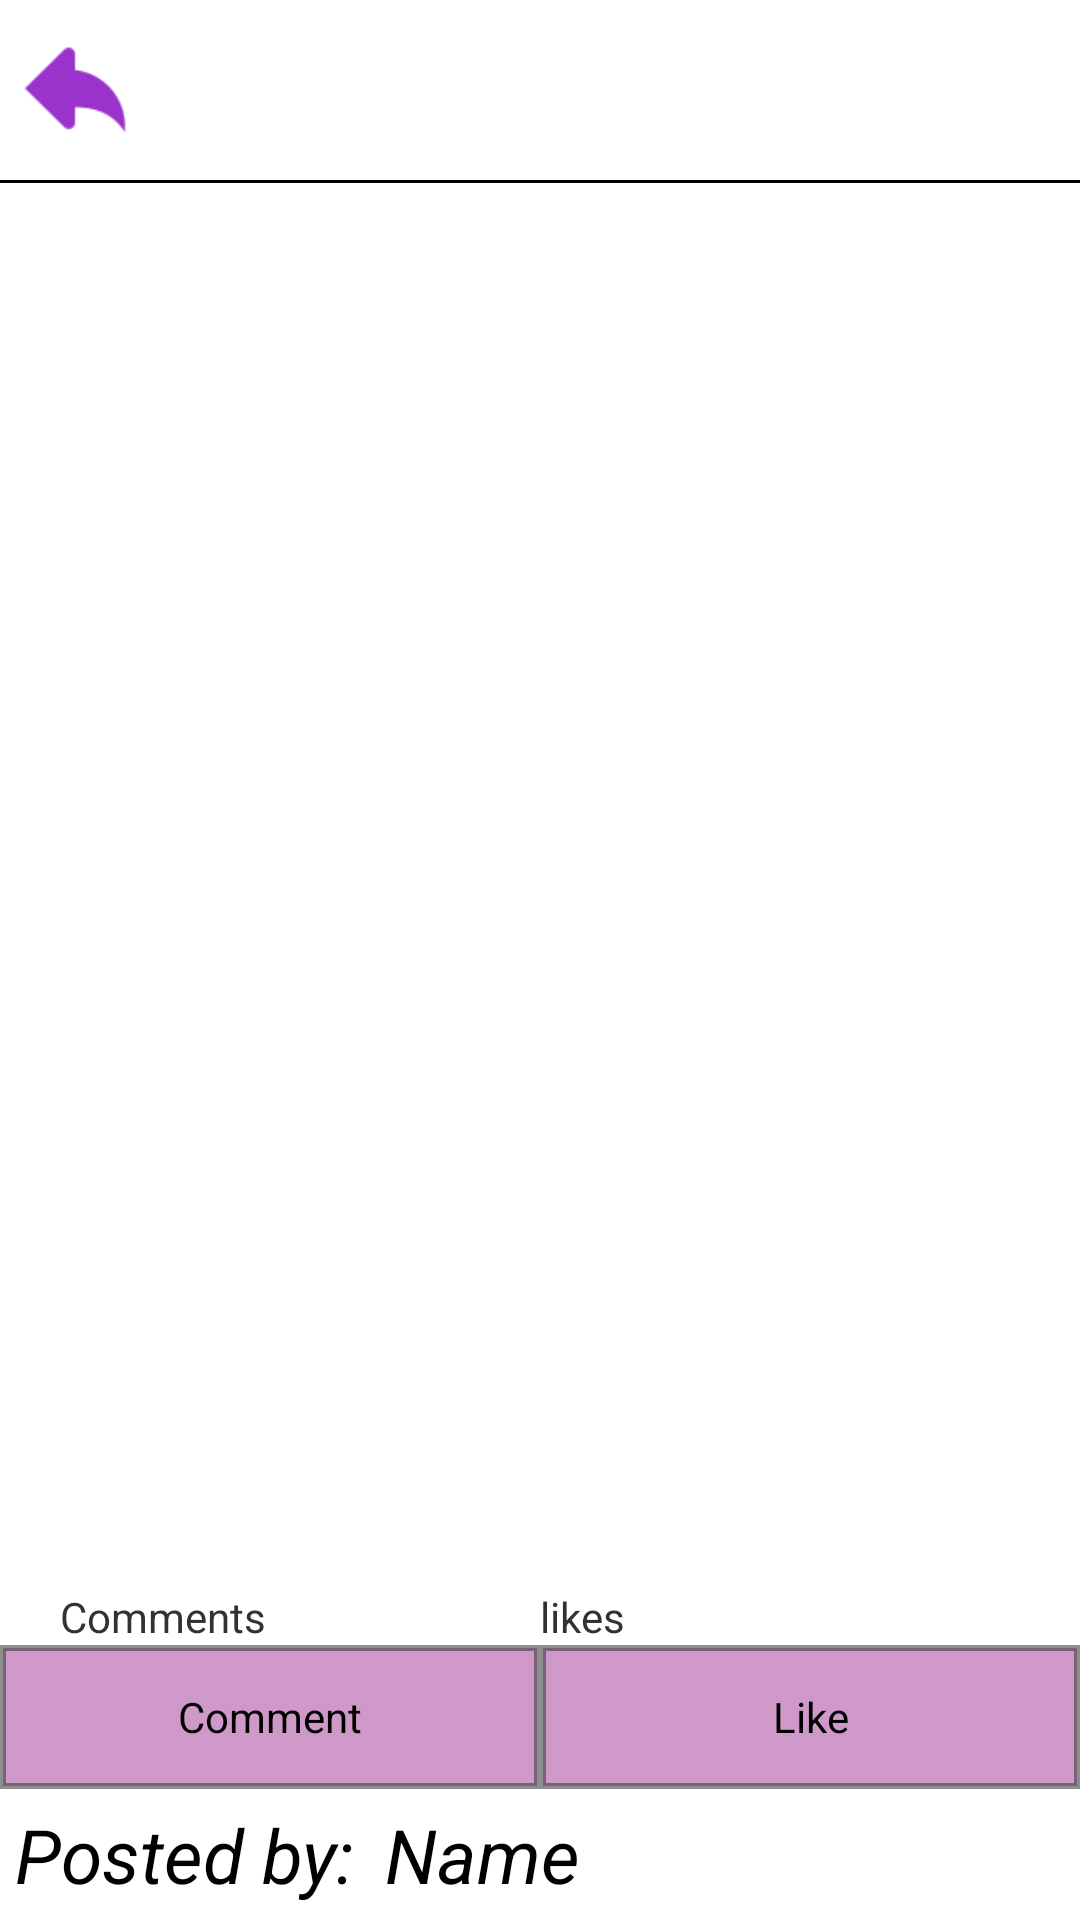

Screen size 1080 x 1920. Icon name, then its center in pixels as point (x, y):
backbutton: point (75, 89)
